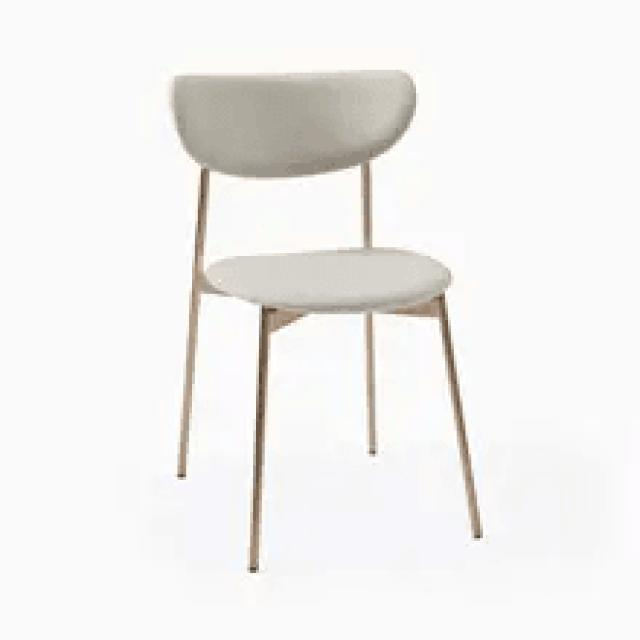chair: (163, 66, 490, 576), (171, 67, 453, 309)
